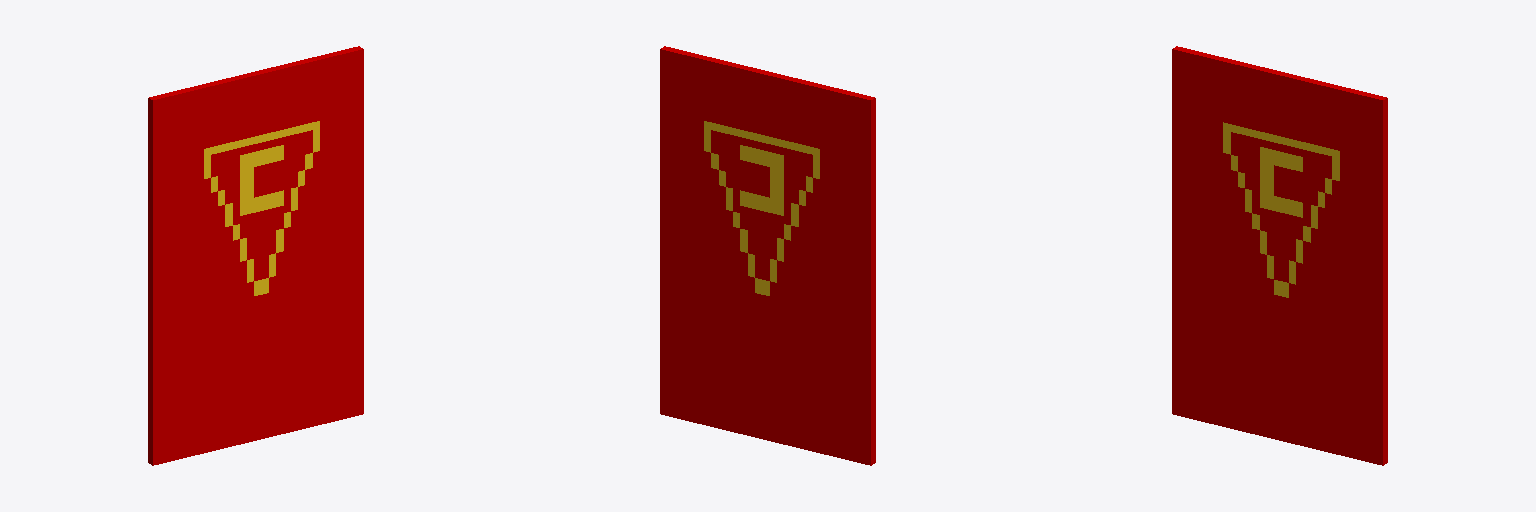
The picture shows the model from 3 angles: view 1: azimuth 30°, elevation 25°; view 2: azimuth 150°, elevation 25°; view 3: azimuth 330°, elevation 25°; orthographic projection.
Parts seen in each view (by area): view 1: object 1; view 2: object 1; view 3: object 1.
Boxes of the visible parts, x1=… form: object 1: x1=148, y1=46, x2=363, y2=465; object 1: x1=660, y1=46, x2=875, y2=465; object 1: x1=1172, y1=46, x2=1387, y2=465.
Size of the model in its own units: 2.9 by 4.8 by 0.1.
Materials: 1 (1 with a texture image).